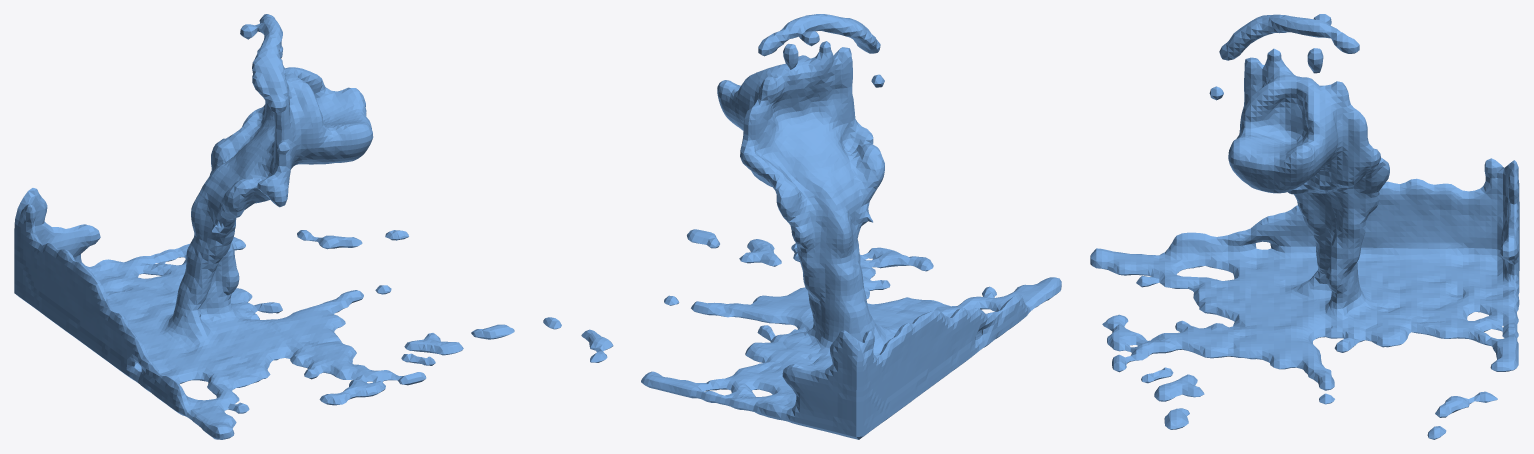
Rendered from water_0045.glb.
The picture shows the model from 3 angles, left to right: view 1: azimuth 30°, elevation 25°; view 2: azimuth 150°, elevation 25°; view 3: azimuth 270°, elevation 25°; orthographic projection. The views are drawn at different scales.
Parts seen in each view (by area): view 1: Water_0045; view 2: Water_0045; view 3: Water_0045.
Part boxes in pixels (bbox=[...]): Water_0045: bbox=[14, 14, 514, 439]; Water_0045: bbox=[543, 14, 1061, 439]; Water_0045: bbox=[1090, 14, 1519, 439].
Bounding box in the file's own units: 4.4 × 3.64 × 4.38.
